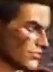kevin: (2, 0, 47, 69)
